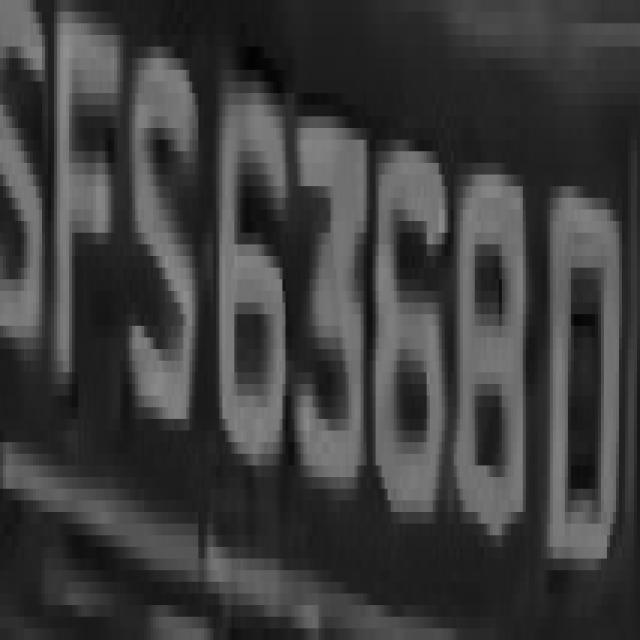3: (288, 81, 366, 547)
6: (214, 58, 292, 512), (367, 104, 448, 524)
8: (448, 140, 529, 558)
D: (541, 128, 622, 605)
F: (54, 12, 117, 396)
S: (118, 47, 208, 442), (3, 12, 54, 442)
